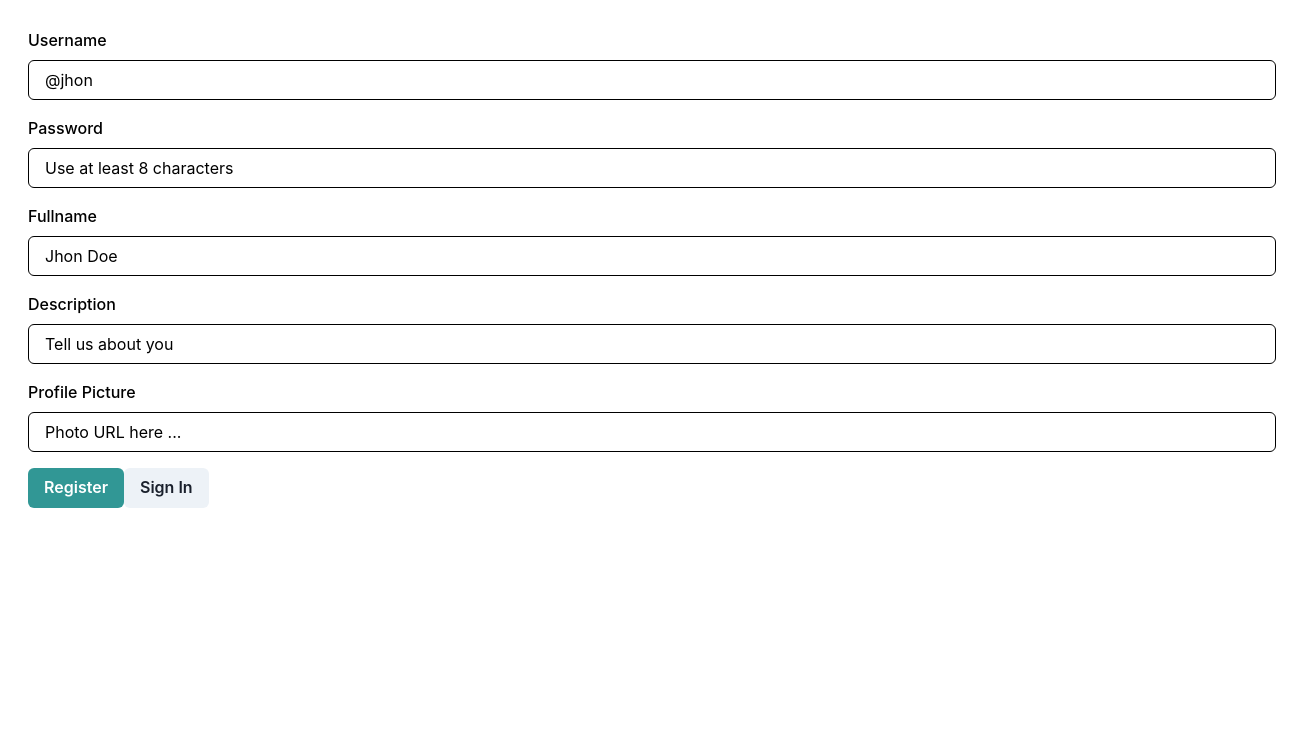
Test case: Register › should navigate to home page when user register successfully
The image size is (1292, 732).
Type "siudin" into the field with test id "username" at (652, 80), box [28,60,1276,100]
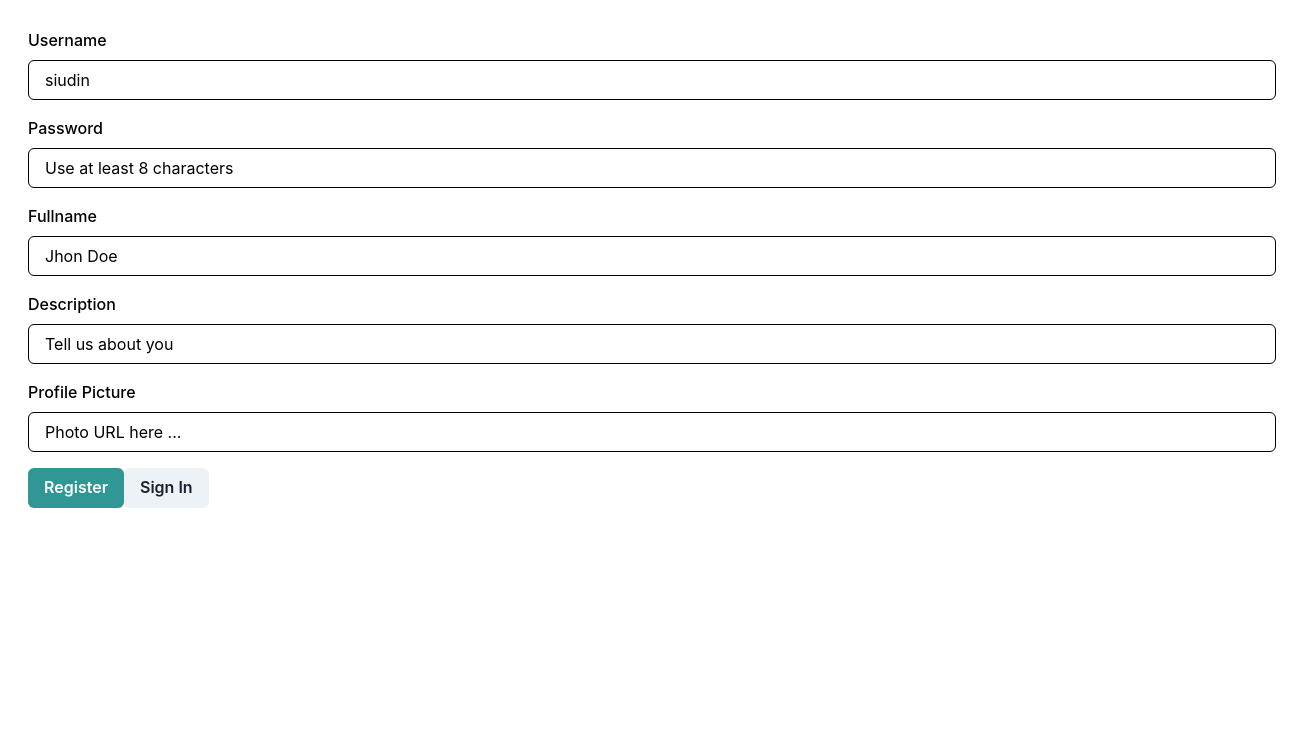
Type "siudin1234" into the password field with test id "password" at (652, 168), box [28,148,1276,188]
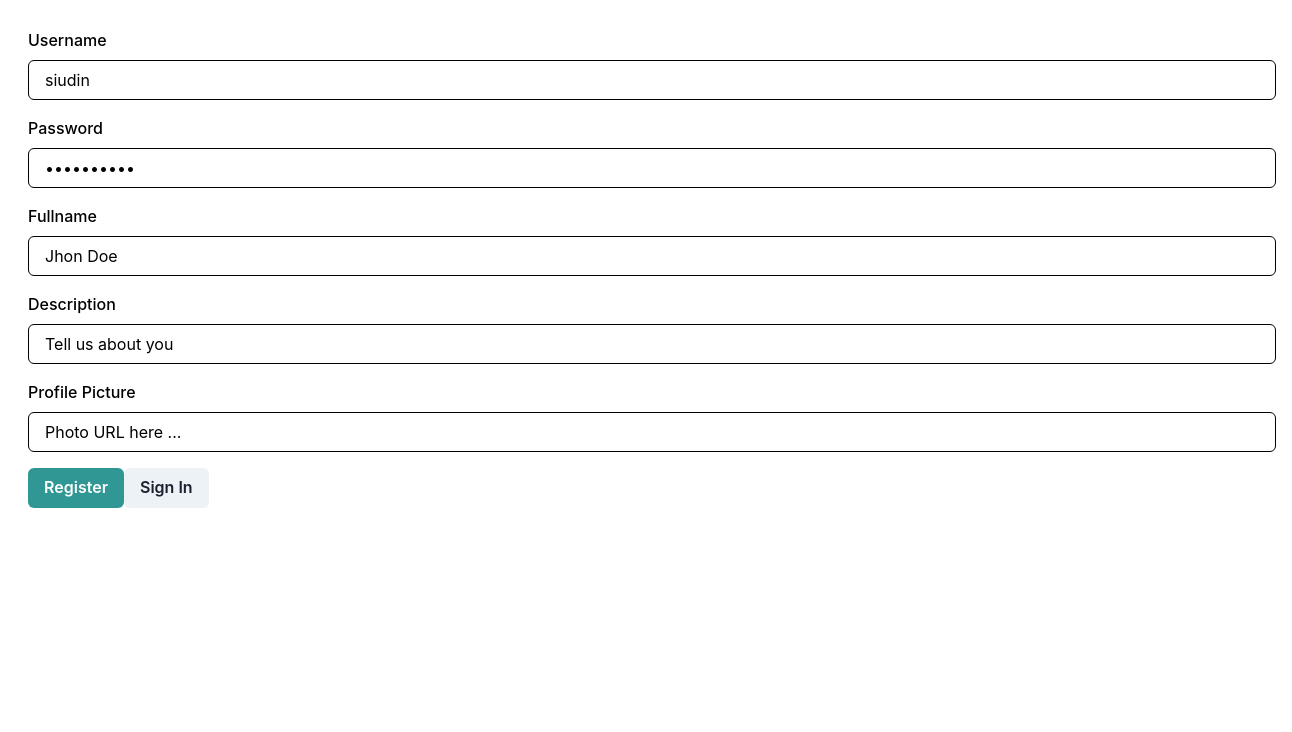
Type "Udin Penyok" into the field with test id "fullname" at (652, 256), box [28,236,1276,276]
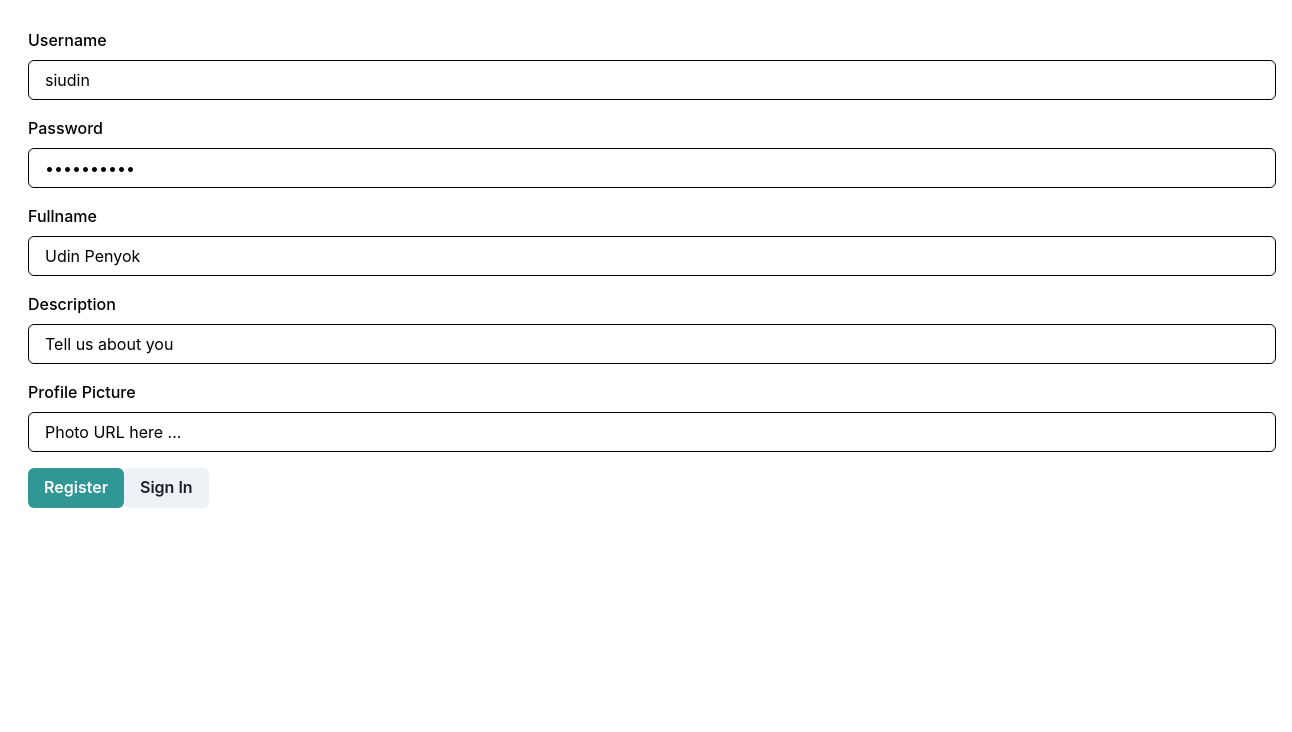
Type "HAHAAAAAY!" into the field with test id "description" at (652, 344), box [28,324,1276,364]
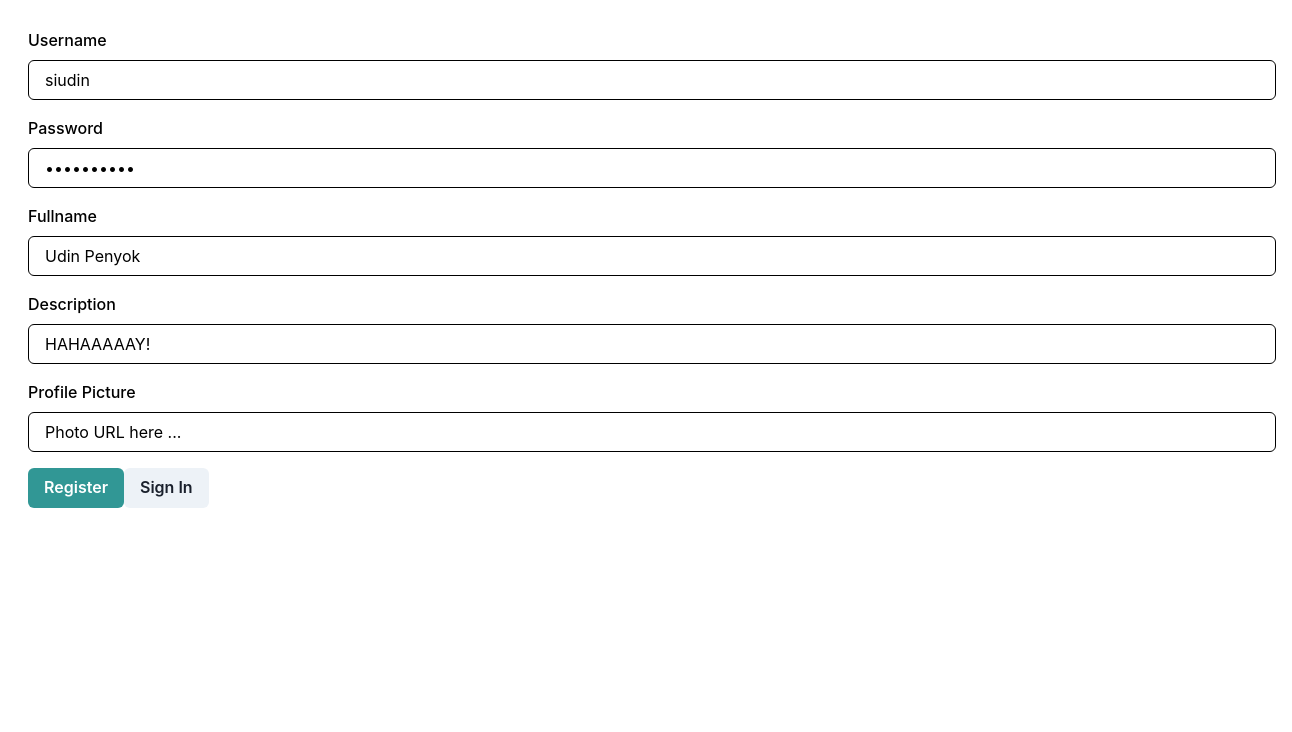
Type "https://images.unsplash.com/photo-1463453091185-61582044d556" into the field with test id "profile-picture" at (652, 432), box [28,412,1276,452]
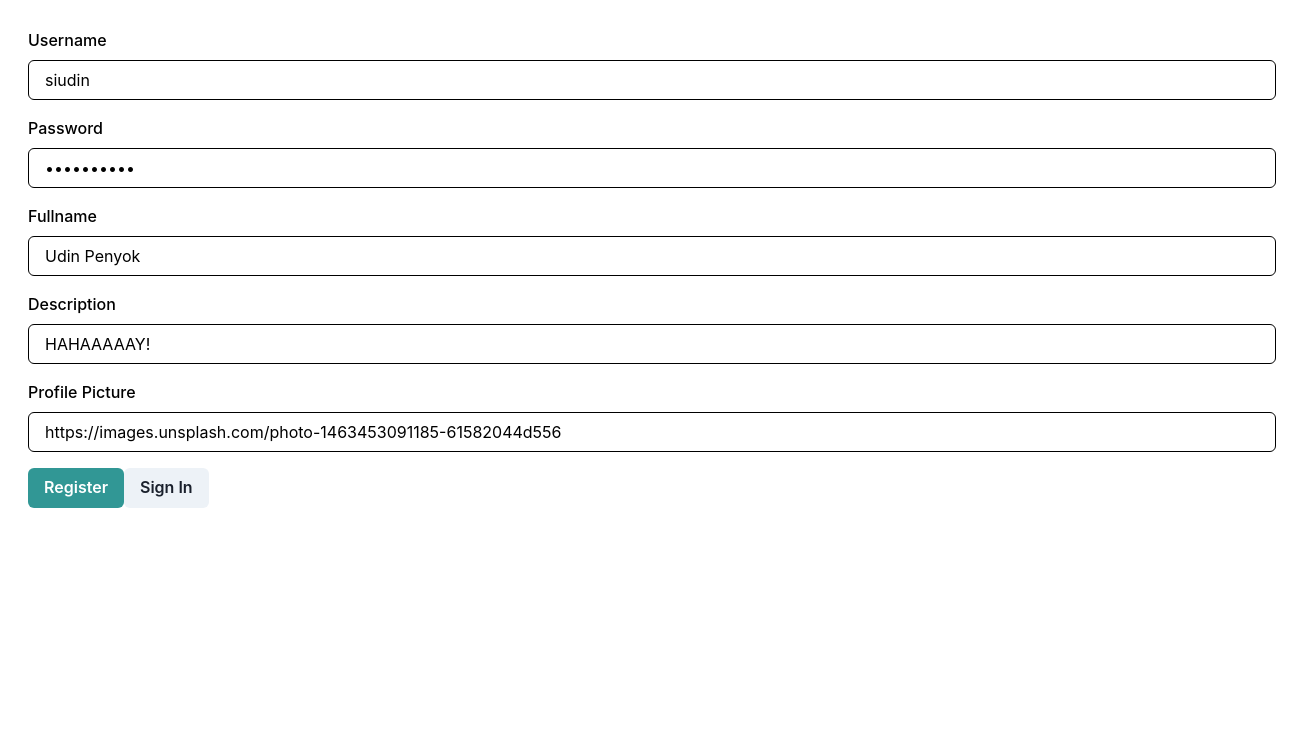
Click the button with test id "register-button" at (76, 488), box [28,468,124,508]
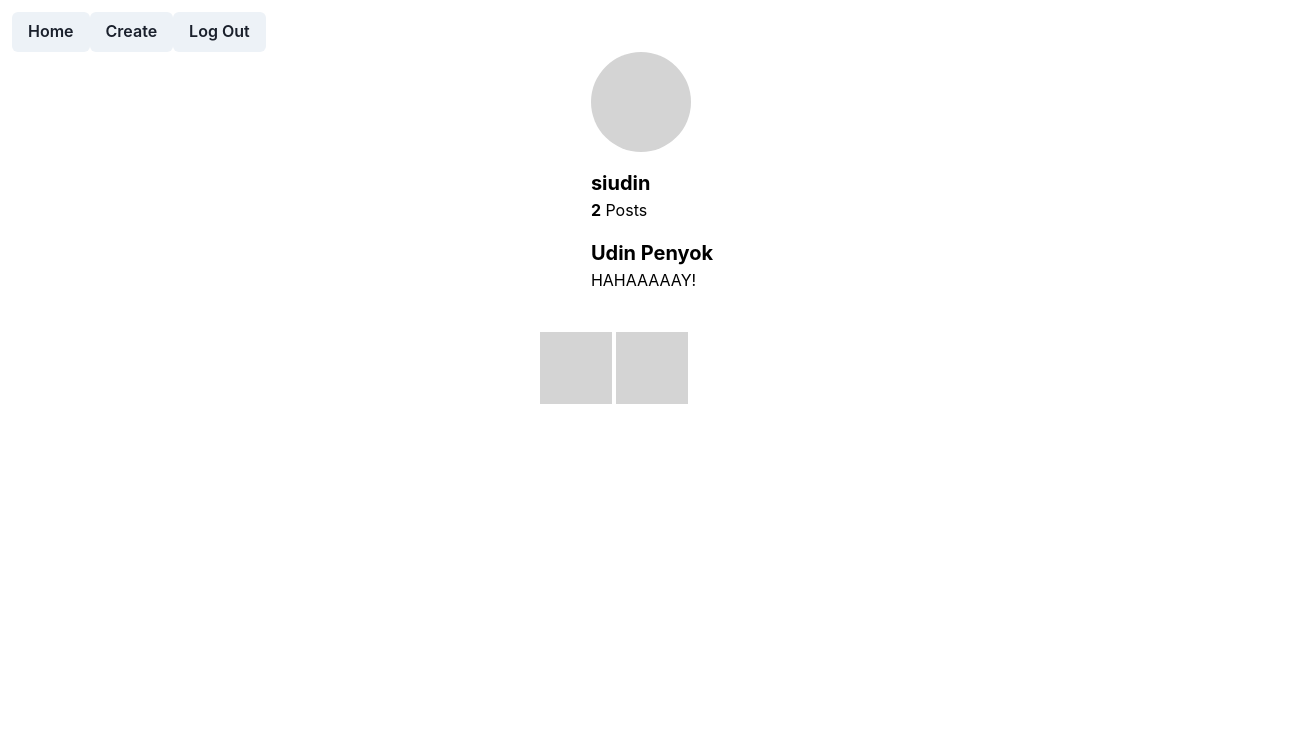
Check: the text "siudin" is shown, box [591,171,650,195]
Check: the text "Udin Penyok" is shown, box [591,238,713,268]
Check: the text "HAHAAAAAY!" is shown, box [591,268,713,292]
